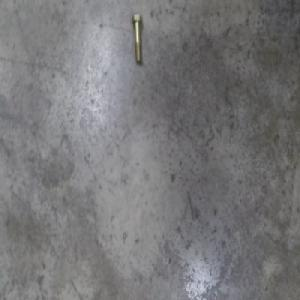Bolt: (133, 19, 146, 68)
